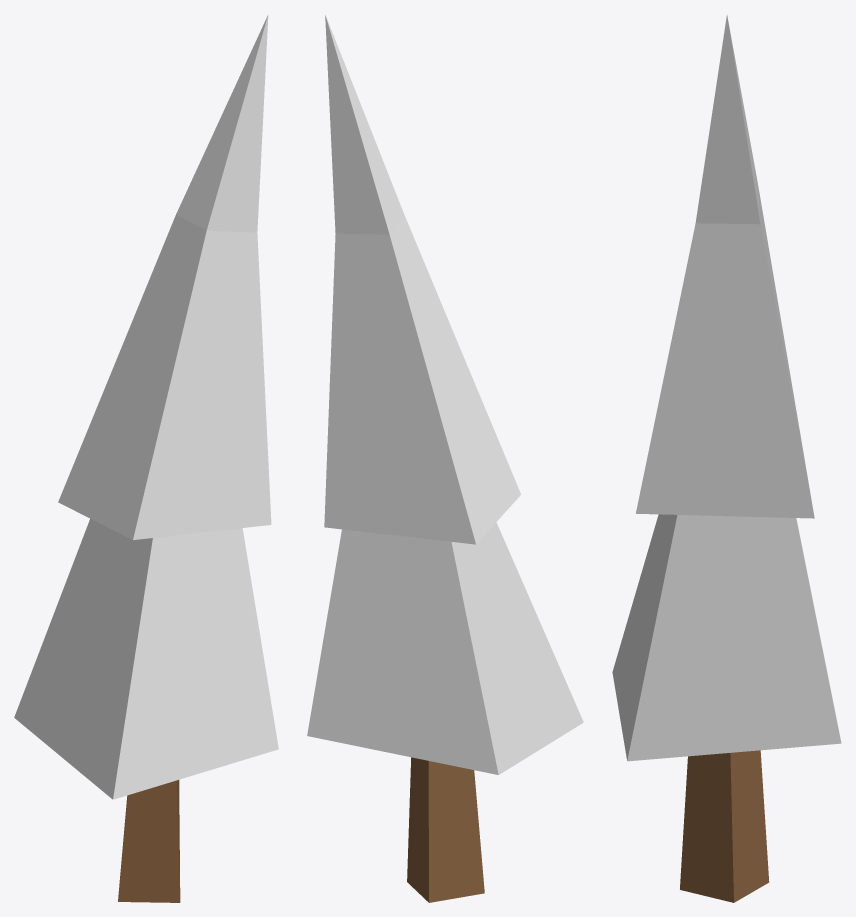
Rendered from Fir_Tree_OneSided_s_Snow_09.fbx.
3 renders of one model, left to right at view 1: azimuth 30°, elevation 25°; view 2: azimuth 150°, elevation 25°; view 3: azimuth 270°, elevation 25°, orthographic. The views are drawn at different scales.
Parts seen in each view (by area): view 1: Fir_Tree_OneSided_s_Snow_09; view 2: Fir_Tree_OneSided_s_Snow_09; view 3: Fir_Tree_OneSided_s_Snow_09.
Boxes of the visible parts, x1,y1,x2,y2 form: Fir_Tree_OneSided_s_Snow_09: (14, 15, 278, 902); Fir_Tree_OneSided_s_Snow_09: (307, 15, 583, 902); Fir_Tree_OneSided_s_Snow_09: (612, 15, 841, 902).
Bounding box in the file's own units: 39.87 × 151 × 33.46.
